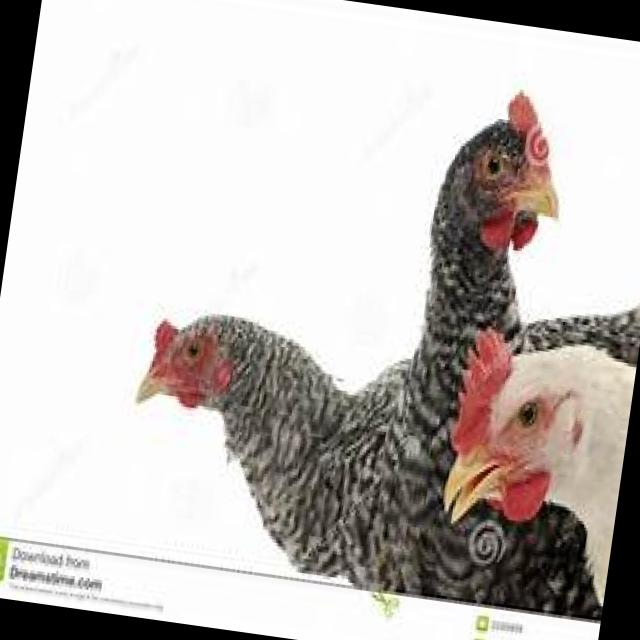chicken: (100, 266, 438, 598), (420, 303, 640, 598), (364, 71, 590, 334)
